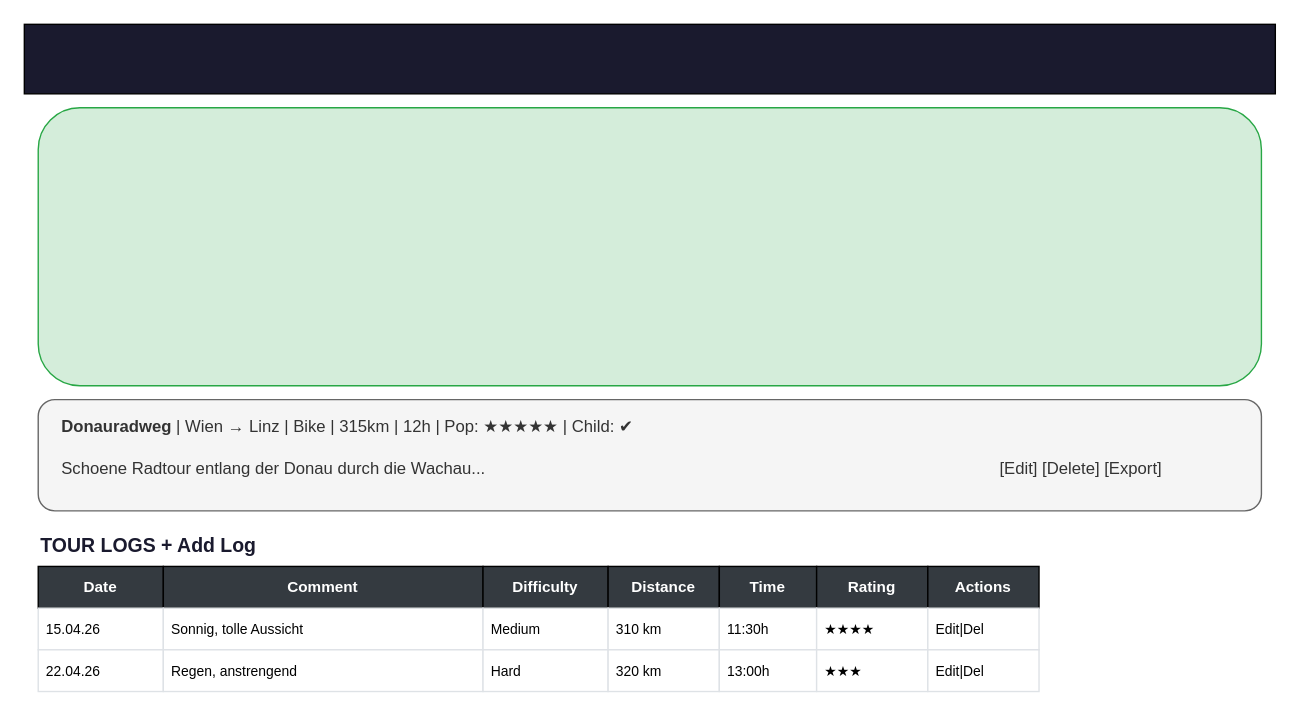
This 1300x716 diagram has some shape labels left out. The shapes that lost their labels are listed below. From the top down, each one's centre as x and y in pixels, then its label:
At point (649, 58): "<- Back Tour: Donauradweg User | Logout".
At point (649, 246): "[ Leaflet Map - Full Width Route Display ]".
